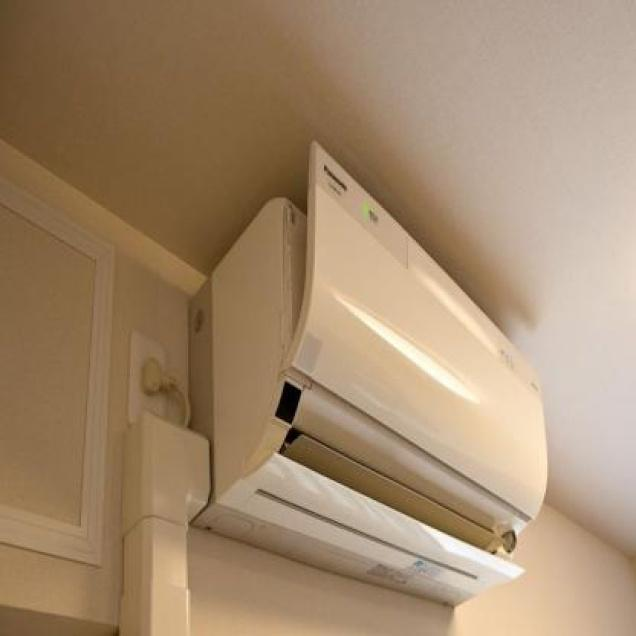AC: (185, 137, 550, 608)
